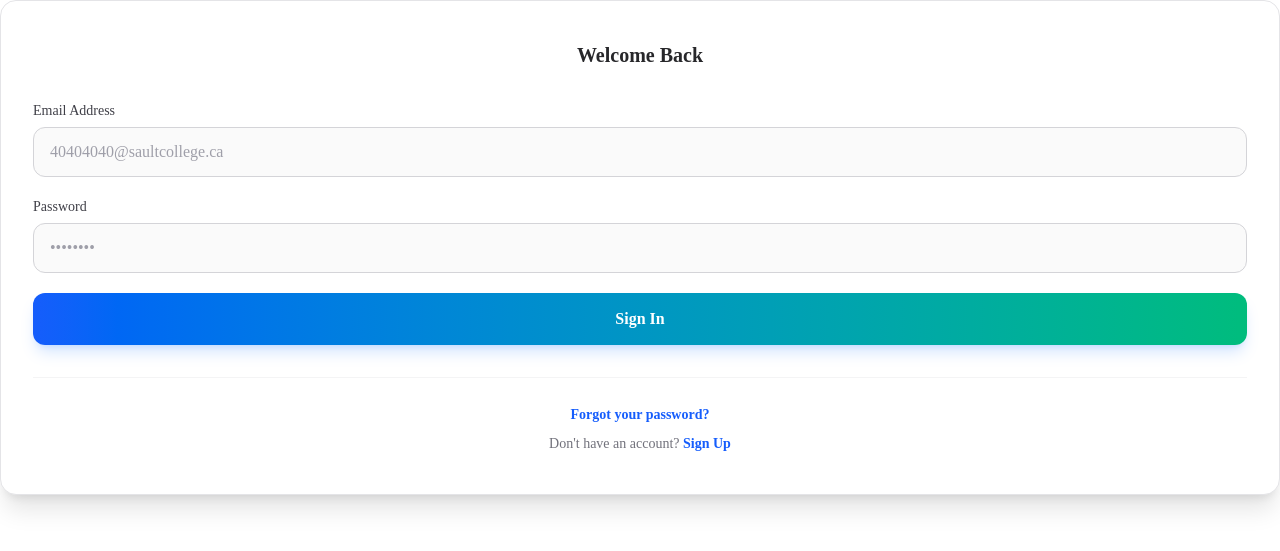
Test: SignIn Component › Form Validation › shows error when password is empty
In the field labelled "Email Address": (640, 152) top-left (33, 127), bottom-right (1247, 177), type "12345678@saultcollege.ca"
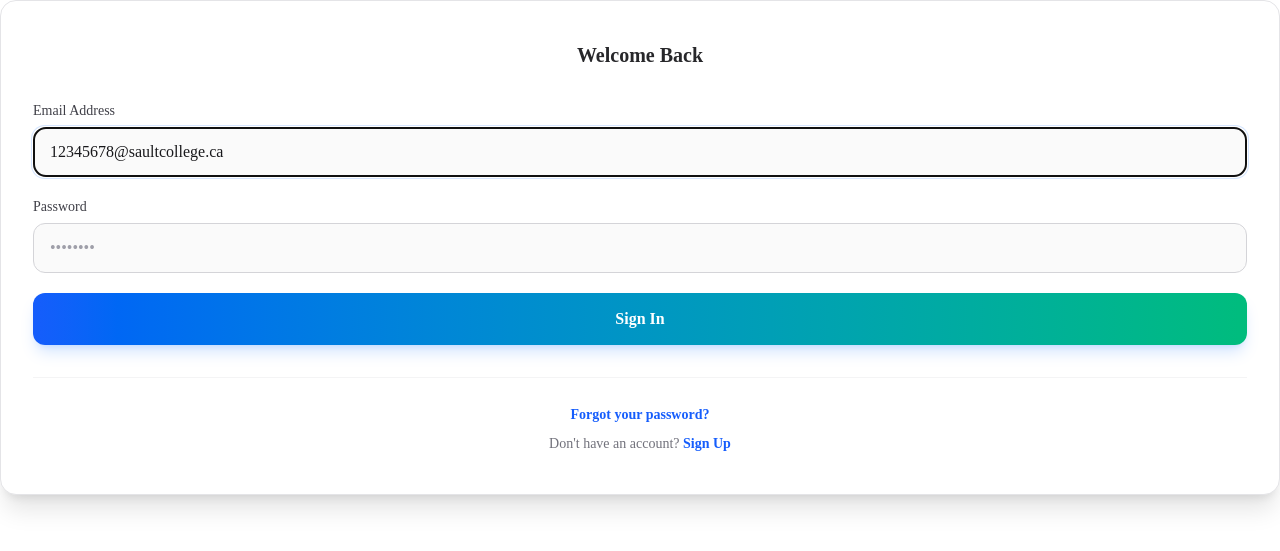
Click the button "Sign In": (640, 319) top-left (33, 293), bottom-right (1247, 345)
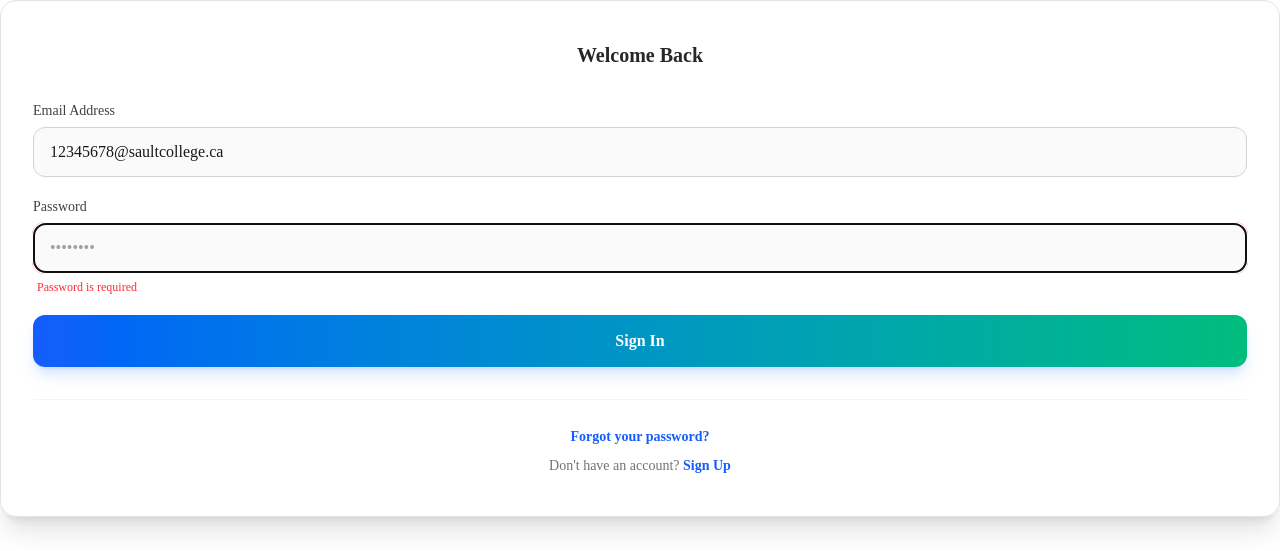
Expected: the text "Password is required" is shown, top-left (37, 280), bottom-right (137, 294)
